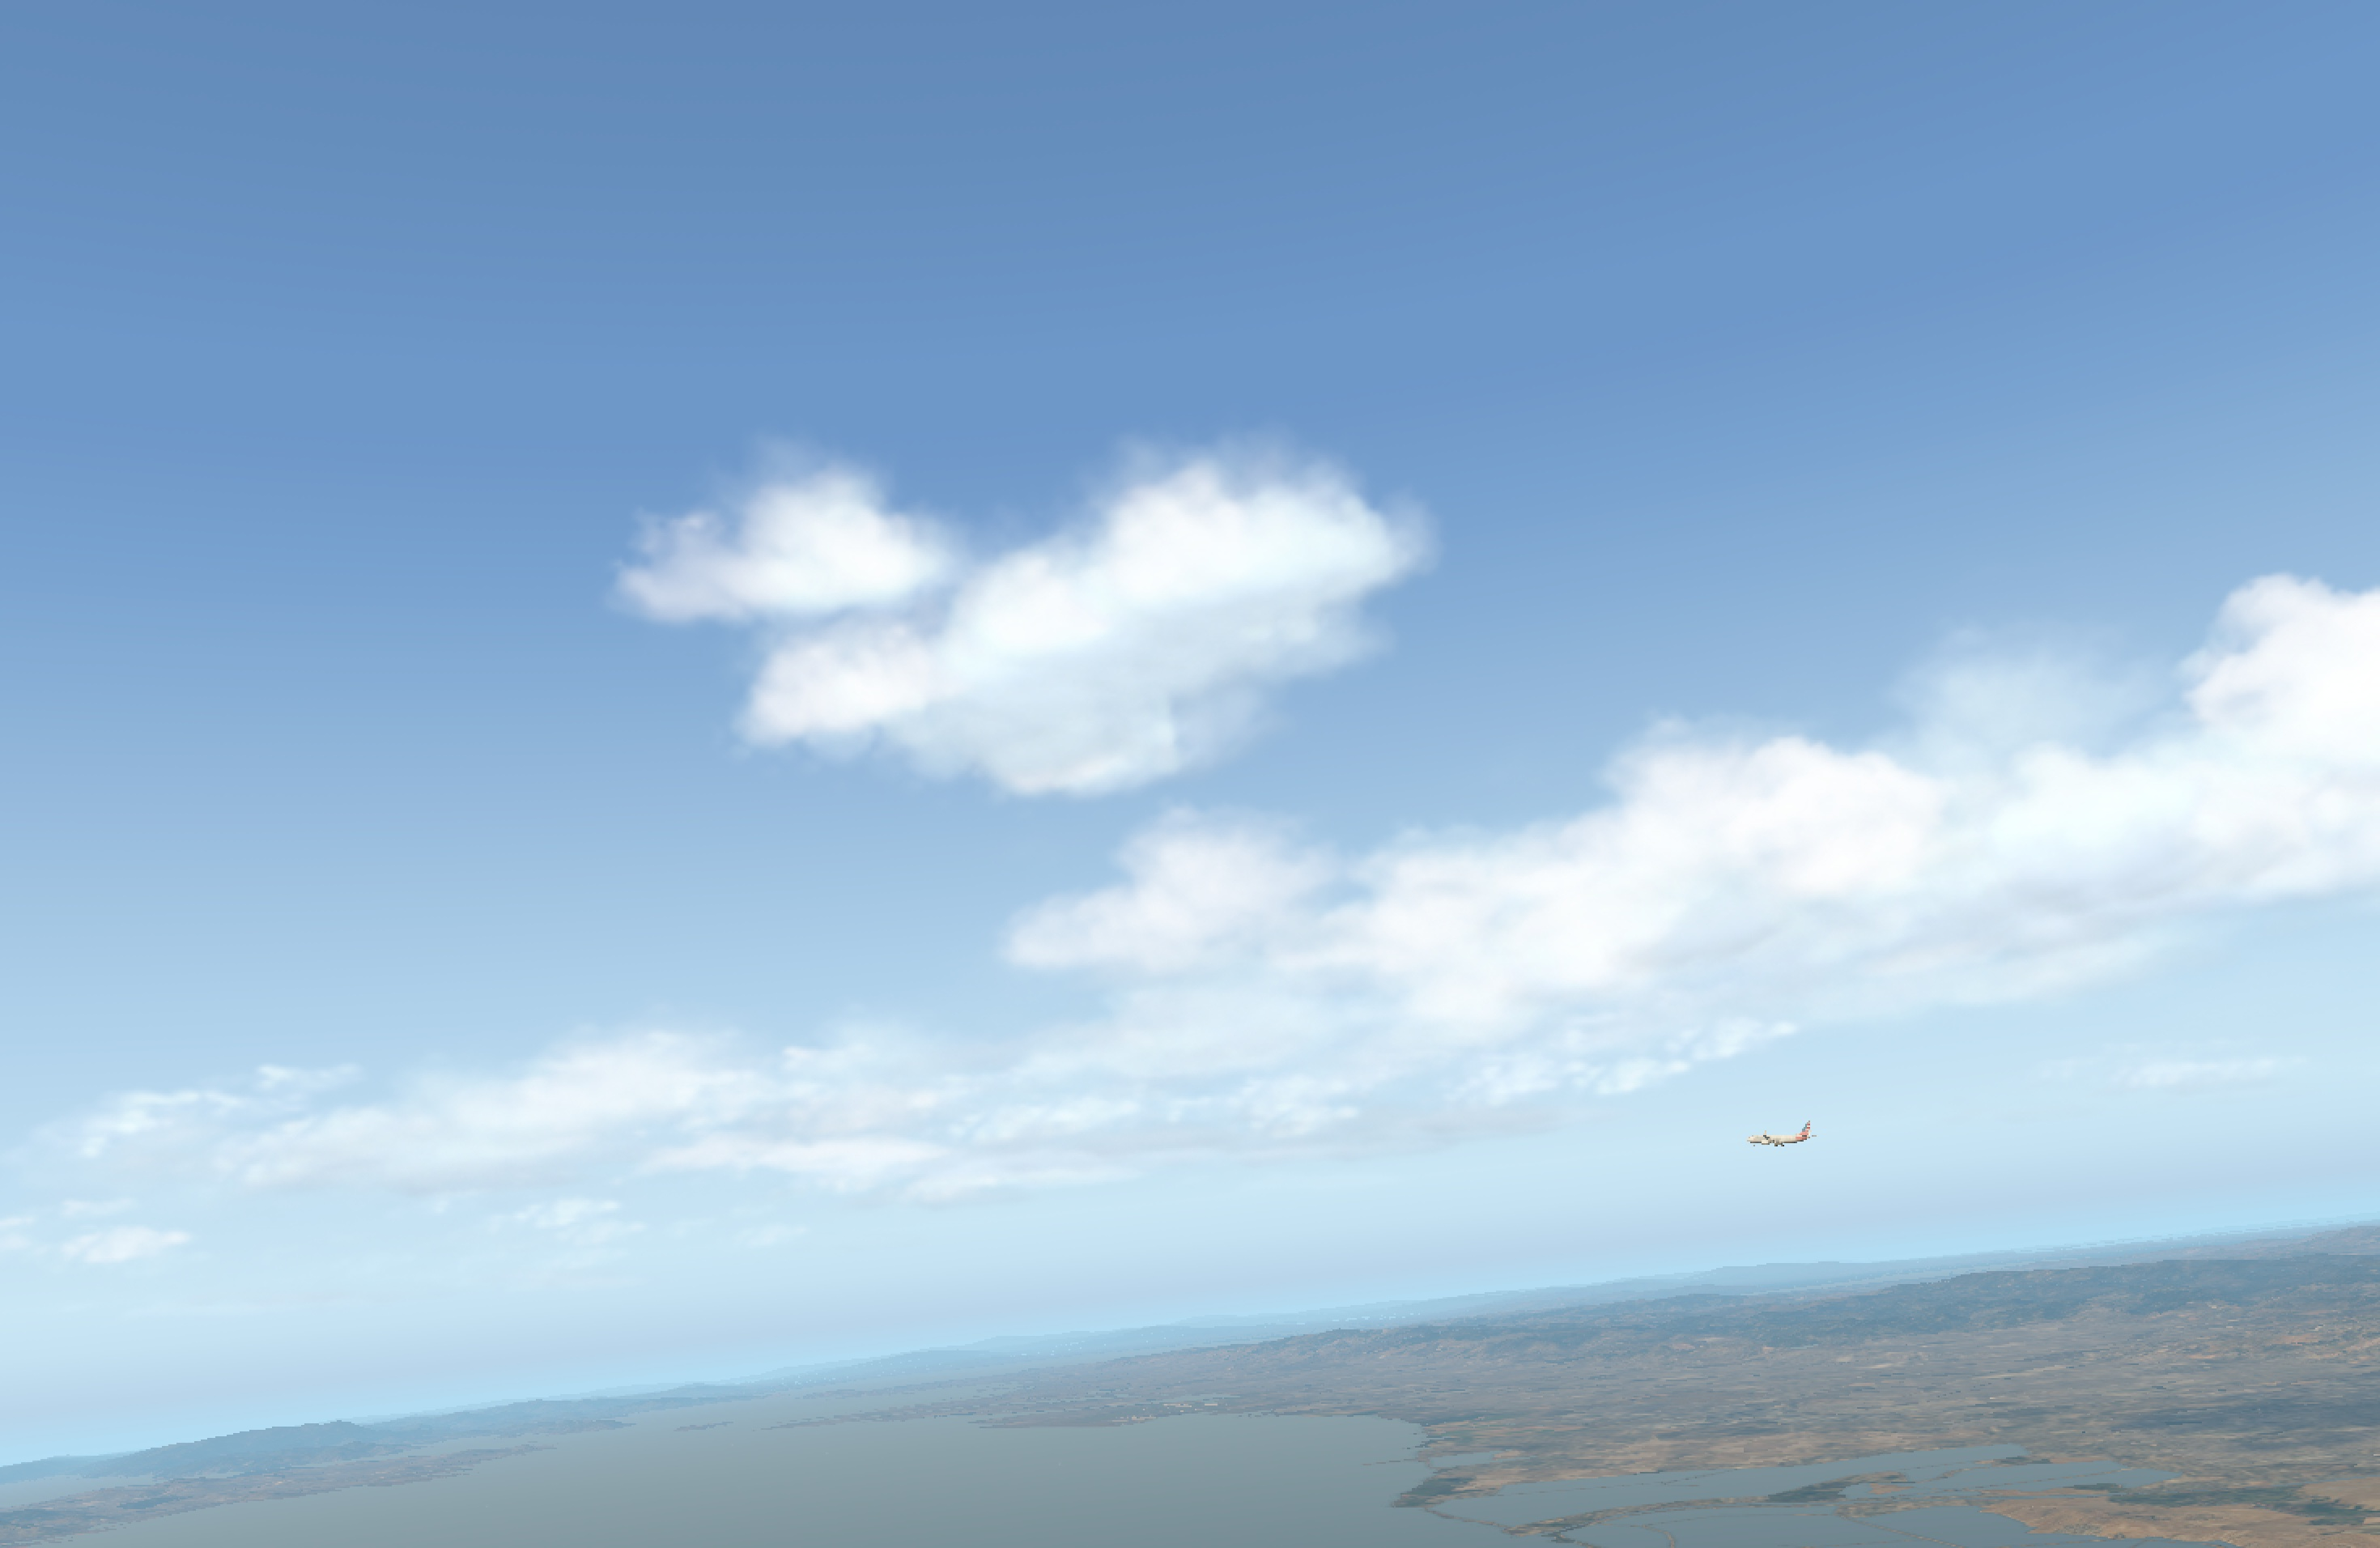aircraft: (1740, 1126, 1814, 1154)
